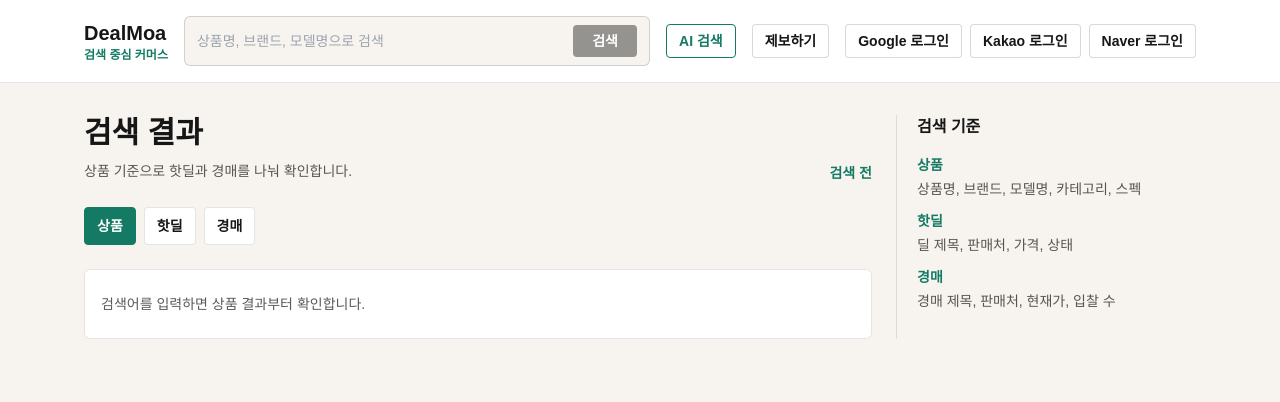
Scenario: SearchWorkspace › shows api error messages
Expected: the button "Google 로그인" is shown, [845,24,962,58]
Type "galaxy" into the search field named "검색어" at (385, 41), box [197,31,573,51]
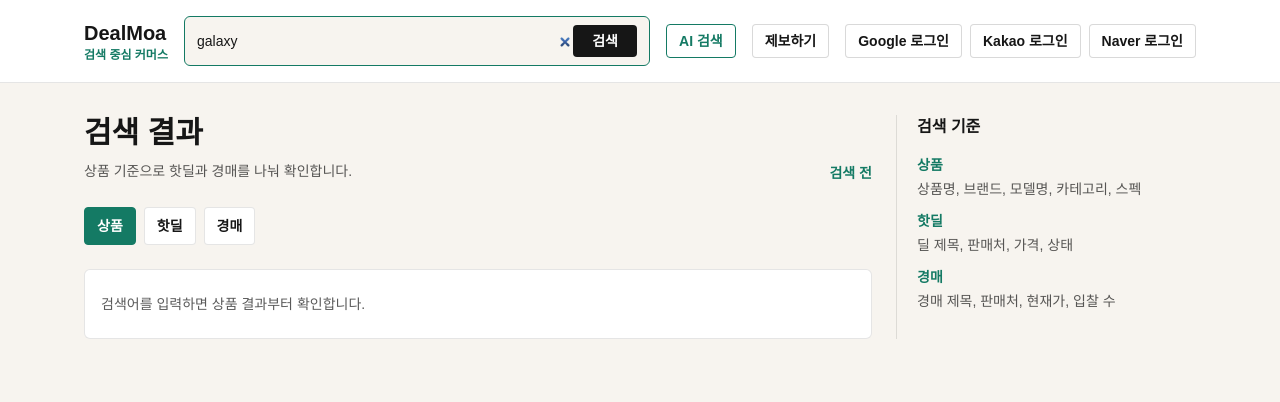
Click the button "검색" at (605, 41), box [573,25,637,57]
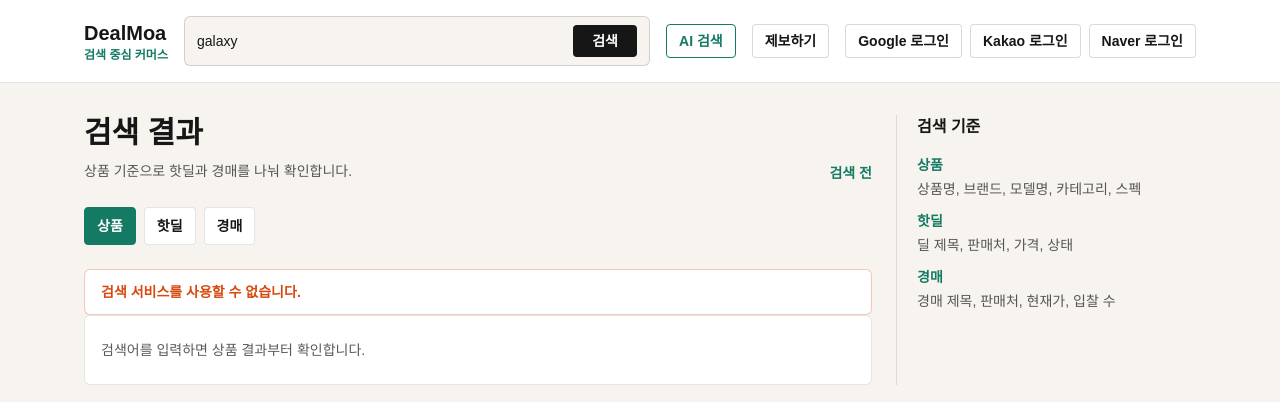
Now the text "검색 서비스를 사용할 수 없습니다." is shown, box [84,269,872,315]
